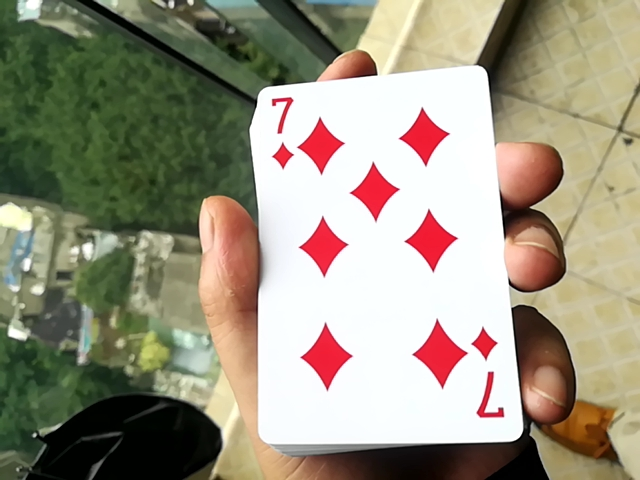fk 7: (235, 56, 522, 447)
